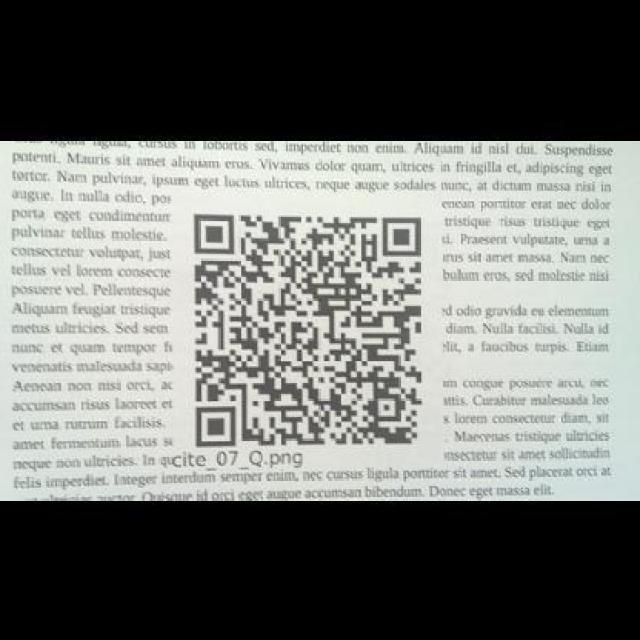QRCode: (186, 201, 429, 452)
